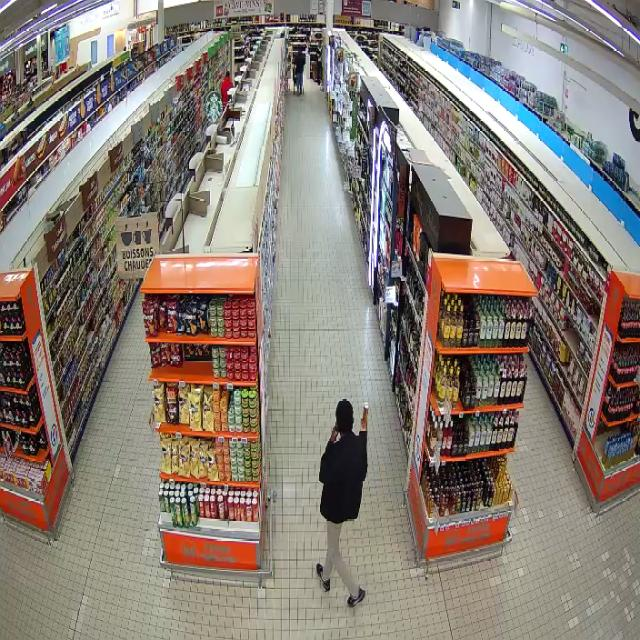article: (364, 402, 369, 418)
hands: (360, 416, 367, 431), (330, 427, 337, 442)
person: (316, 399, 366, 607)
